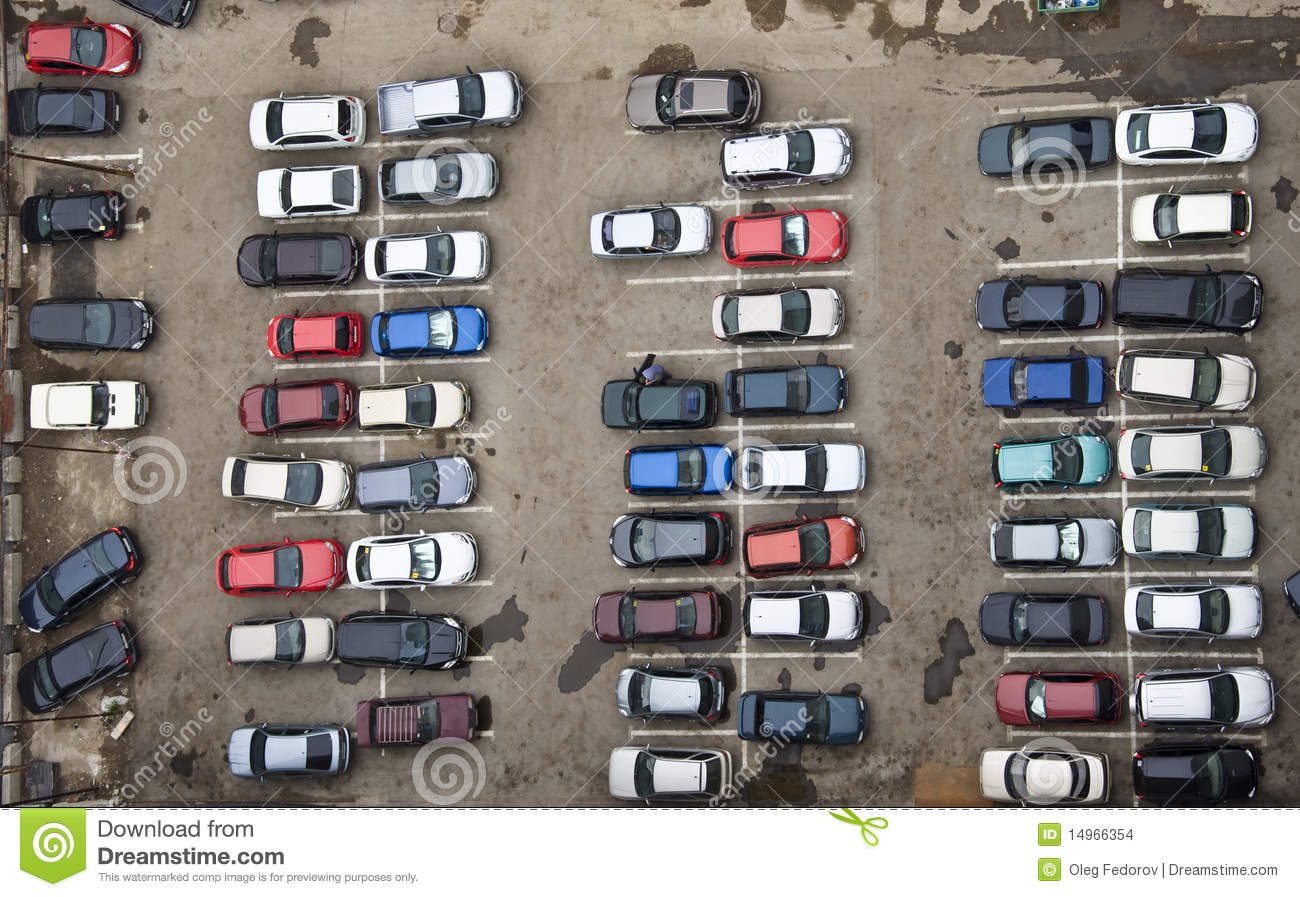Car: (1125, 659, 1281, 727), (376, 67, 521, 139), (1113, 420, 1269, 486), (1119, 98, 1264, 168), (968, 742, 1111, 810), (1120, 579, 1269, 644), (1125, 183, 1265, 252), (220, 719, 352, 792), (1113, 347, 1263, 411), (715, 123, 857, 190), (967, 107, 1113, 172), (612, 737, 757, 802), (344, 526, 479, 592), (701, 286, 853, 344), (981, 667, 1125, 728), (377, 144, 509, 210), (735, 436, 872, 499), (1119, 504, 1263, 563), (975, 350, 1113, 411), (584, 203, 719, 263), (980, 508, 1117, 567), (221, 454, 353, 515), (976, 587, 1112, 646), (741, 587, 867, 647), (611, 660, 731, 722), (364, 230, 500, 284), (989, 430, 1108, 486), (19, 379, 149, 430), (28, 15, 137, 75), (357, 378, 472, 434), (255, 162, 365, 219), (253, 91, 364, 147), (228, 619, 333, 667)
LaneMark: (973, 246, 1261, 266), (617, 647, 869, 664), (624, 342, 856, 360), (249, 356, 497, 372), (256, 430, 503, 446), (624, 271, 864, 286), (1001, 648, 1271, 660), (609, 498, 857, 508), (40, 148, 147, 168), (979, 491, 1272, 498), (621, 727, 735, 739), (417, 504, 503, 510)
